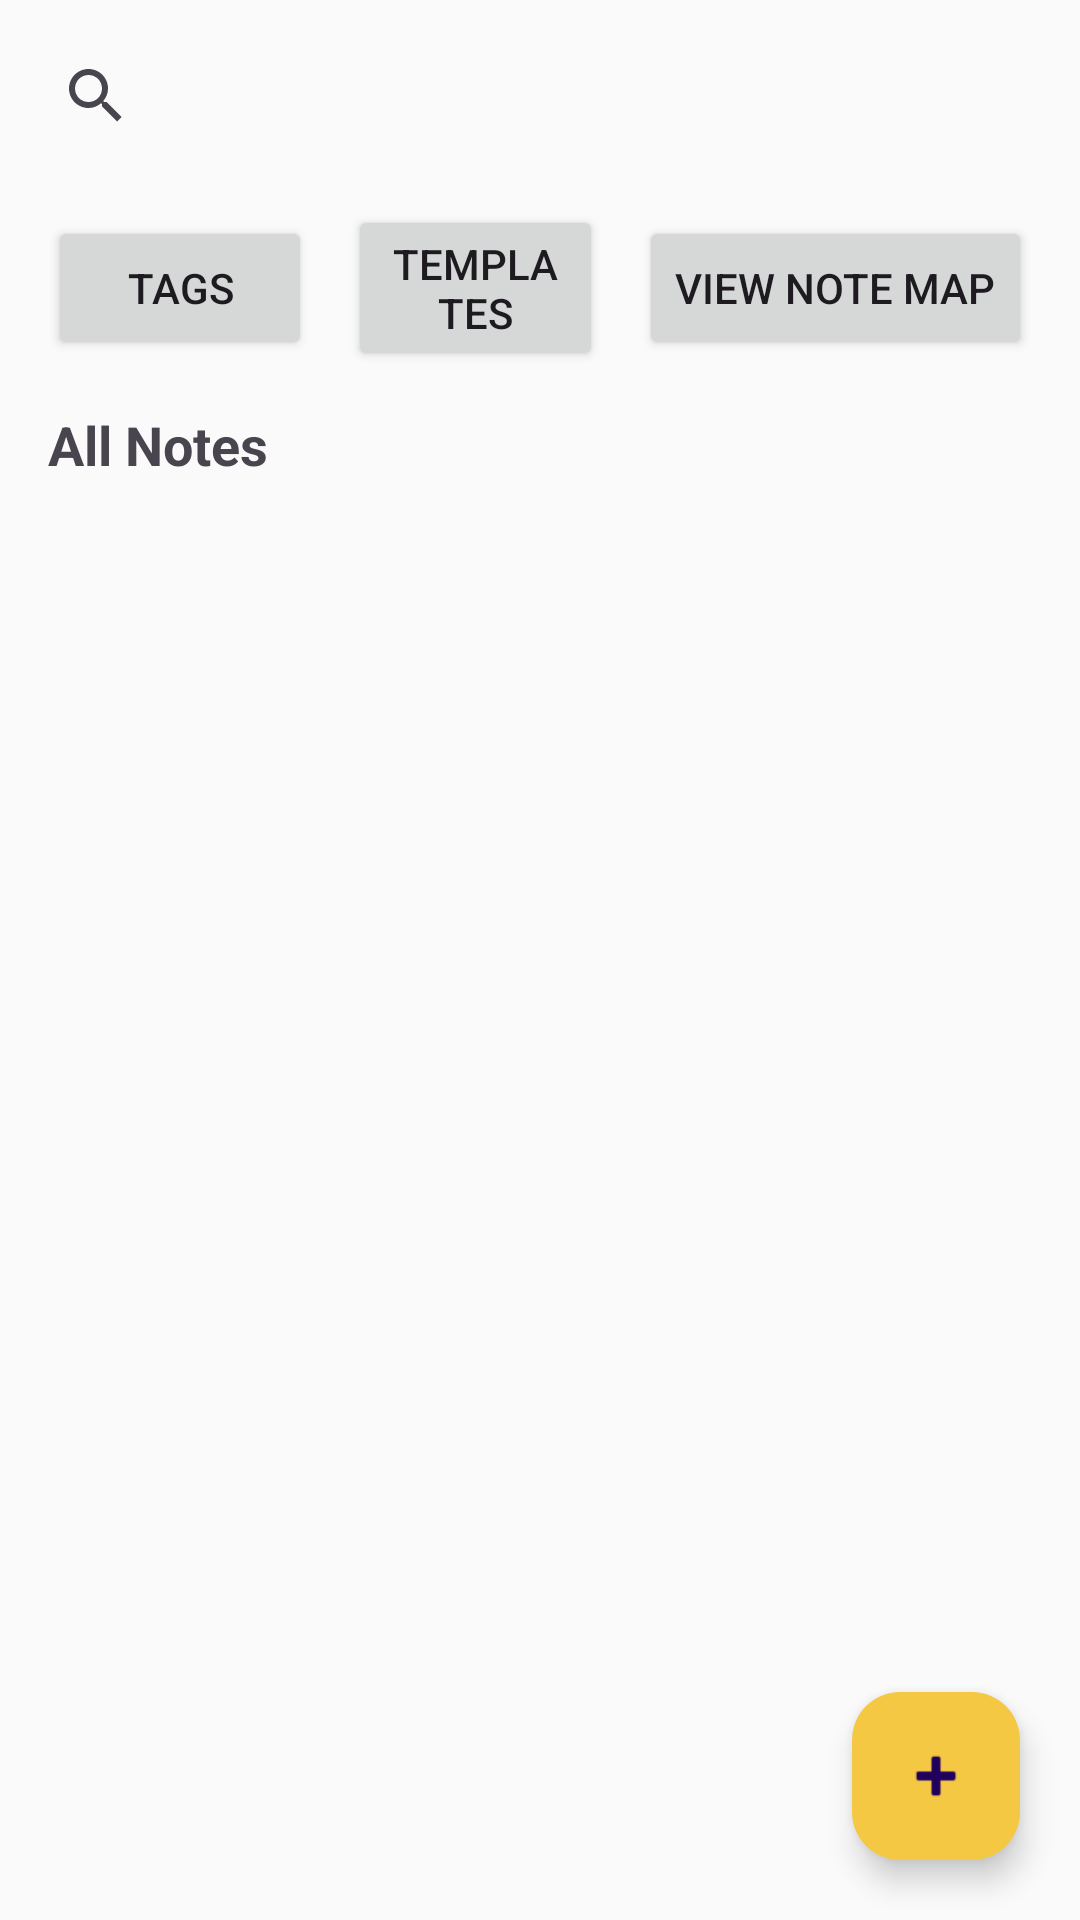

Icons on this 1080×1920 Android screen, each with the point to tap as [x,y]:
Add Note: [936,1776]
